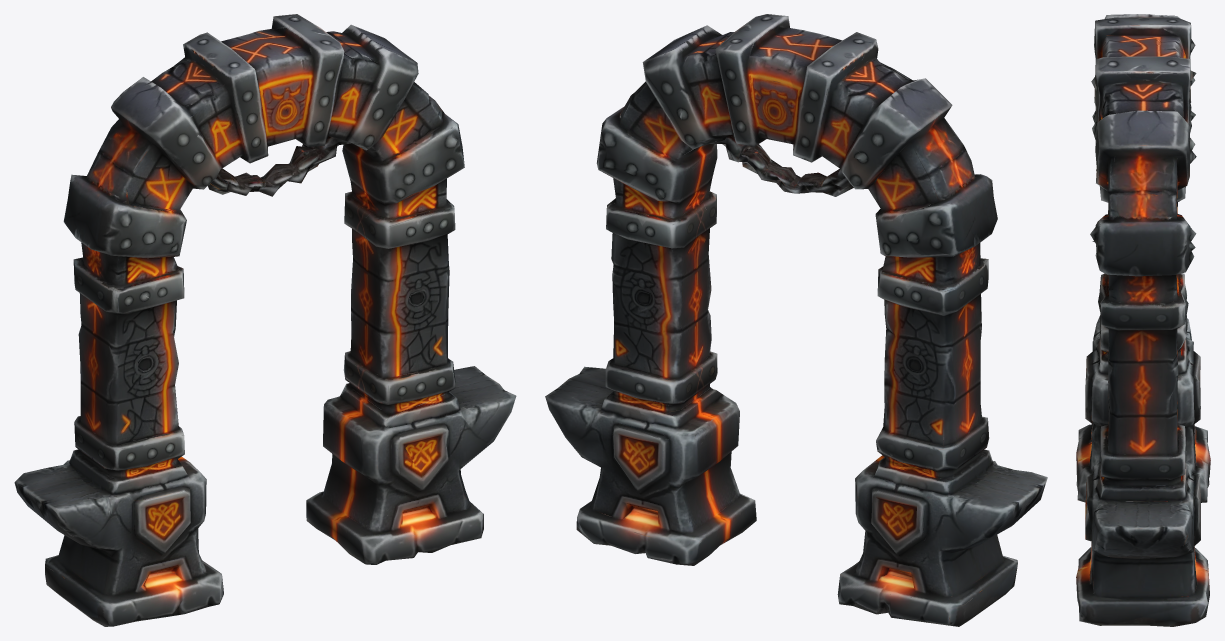
File: dungeon-exit-web.glb
3 views of the same model, side by side, from view 1: azimuth 30°, elevation 25°; view 2: azimuth 150°, elevation 25°; view 3: azimuth 270°, elevation 25° (orthographic). The views are drawn at different scales.
Size of the model in its own units: 1.88 by 2.01 by 0.493.
Materials: 1 (1 with a texture image).
